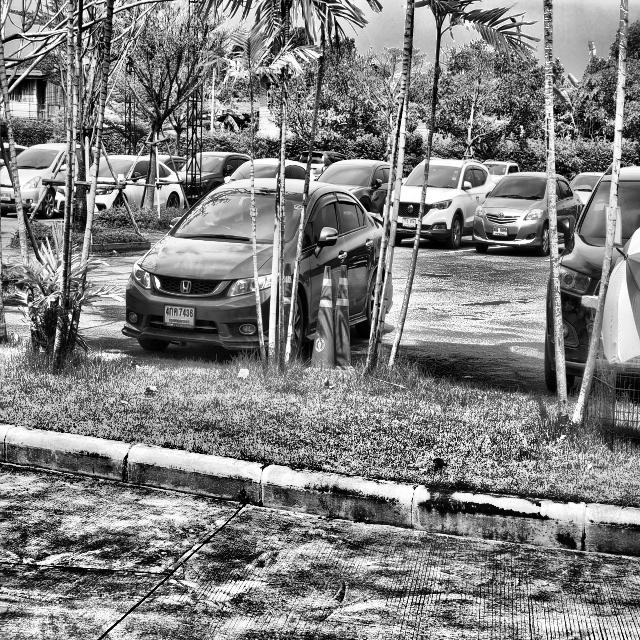license-plate: (162, 301, 194, 329), (493, 226, 508, 237), (402, 218, 416, 228), (0, 191, 11, 202)
